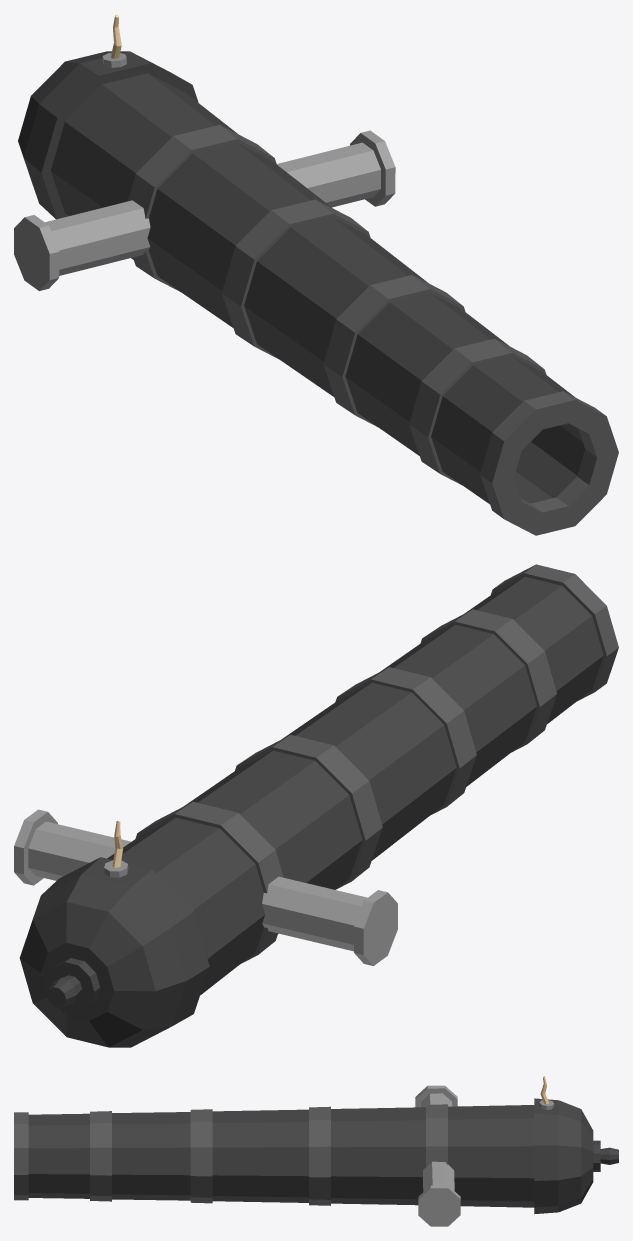
Rendered from cannon.muzzle.006.fbx.
The picture shows the model from 3 angles, top to bottom: view 1: azimuth 30°, elevation 25°; view 2: azimuth 150°, elevation 25°; view 3: azimuth 270°, elevation 25°; orthographic projection. The views are drawn at different scales.
Parts seen in each view (by area): view 1: cannon.muzzle.006; view 2: cannon.muzzle.006; view 3: cannon.muzzle.006.
Part boxes in pixels (bbox=[...]): cannon.muzzle.006: bbox=[14, 14, 618, 535]; cannon.muzzle.006: bbox=[14, 564, 618, 1047]; cannon.muzzle.006: bbox=[14, 1076, 618, 1226].
Size of the model in its own units: 1.2 by 0.7065 by 2.98.
